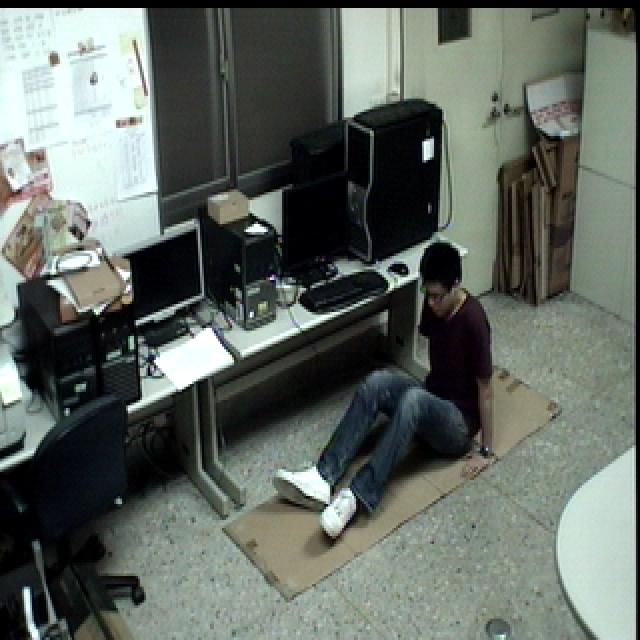sit: (269, 239, 506, 550)
